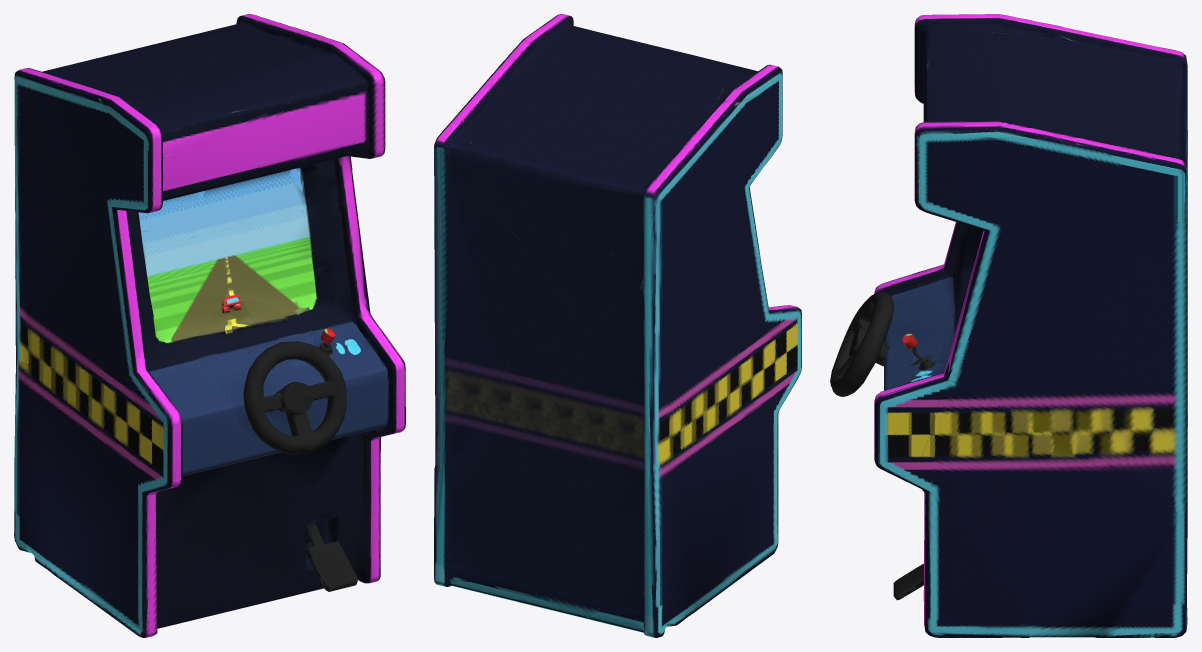
File: maquina-fondo-autos.glb
3 views of the same model, side by side, from view 1: azimuth 30°, elevation 25°; view 2: azimuth 150°, elevation 25°; view 3: azimuth 270°, elevation 25° (orthographic). The views are drawn at different scales.
Size of the model in its own units: 0.9677 by 2 by 1.27.
1 material, 1 textured.
